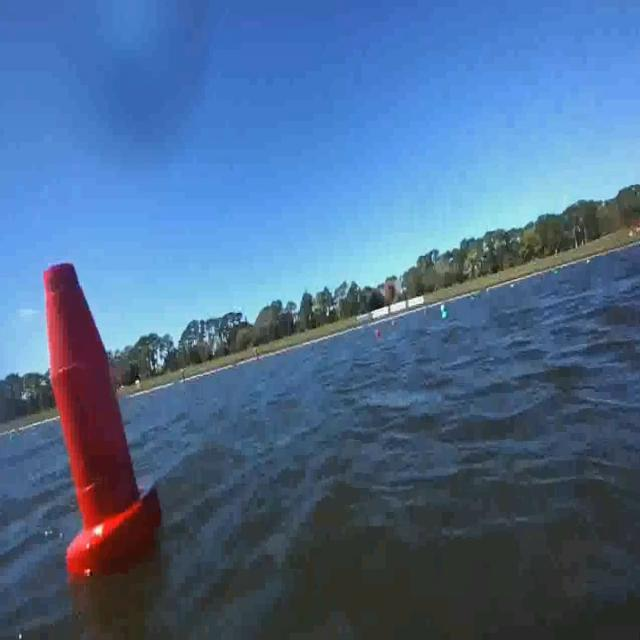red-column-buoy: (37, 258, 164, 582)
